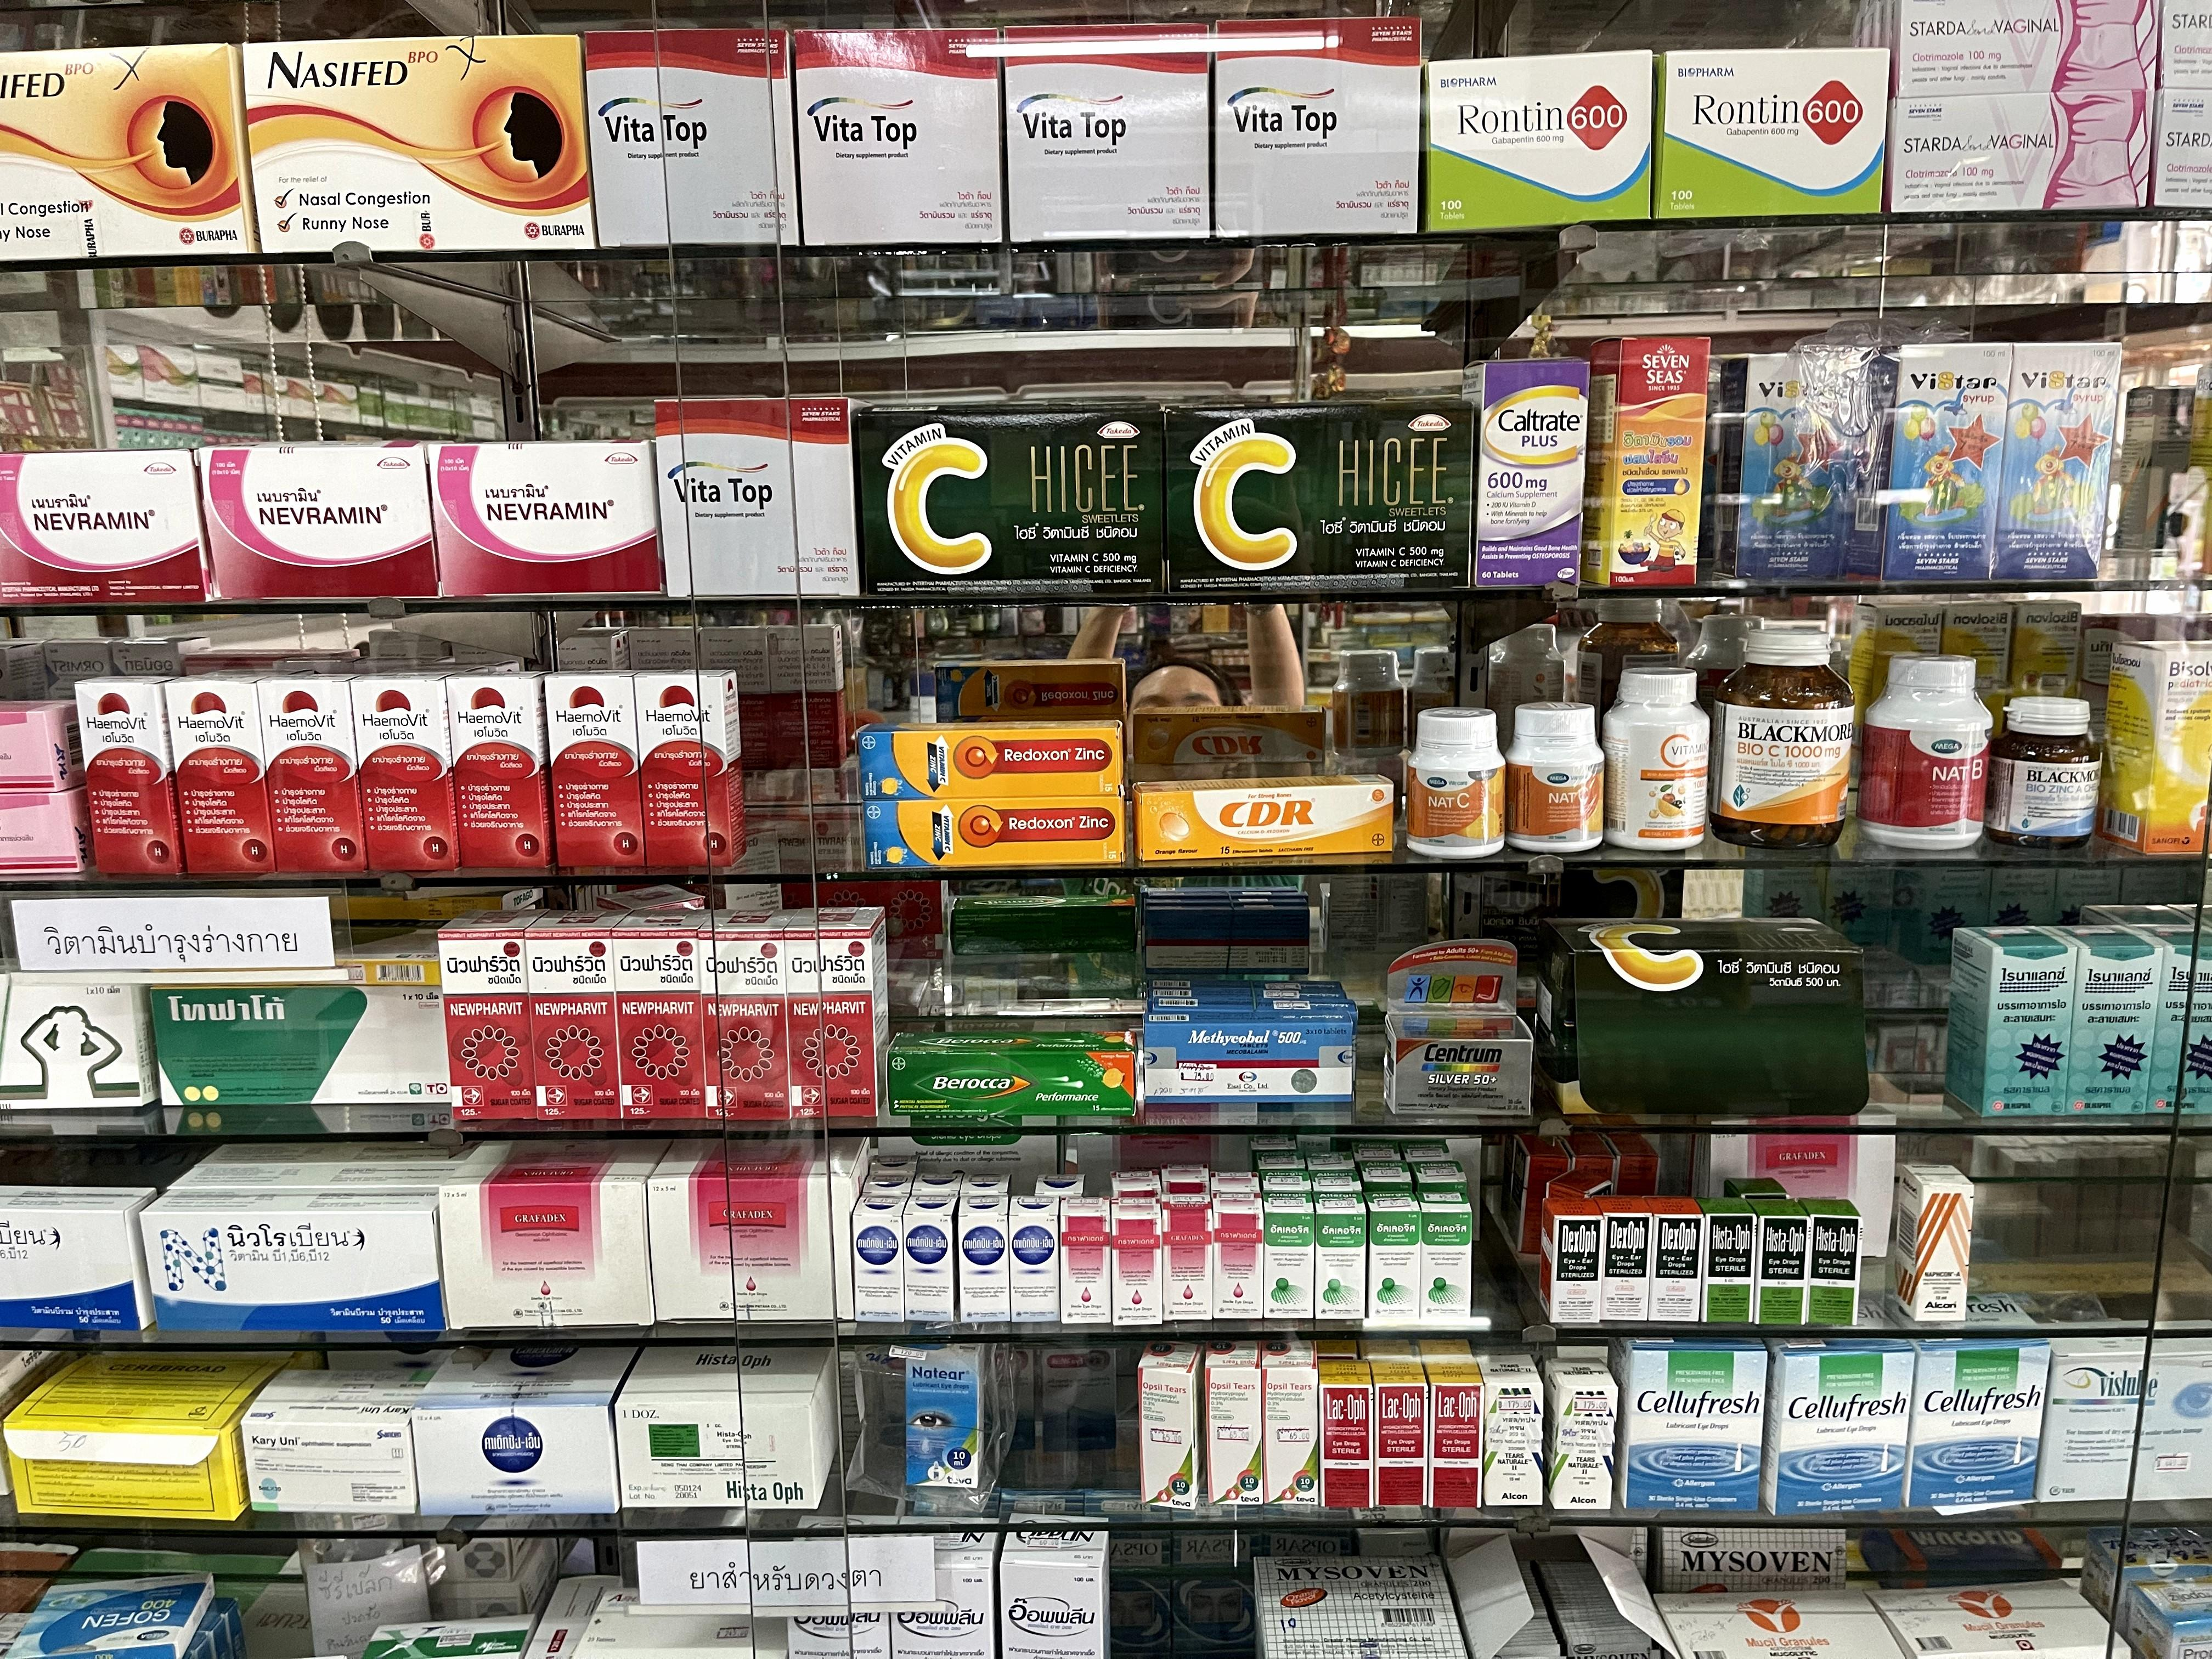Allergis: (1416, 1190, 1472, 1323), (1362, 1192, 1420, 1319), (1313, 1190, 1367, 1319), (1261, 1190, 1315, 1317), (1411, 1162, 1468, 1194), (1359, 1161, 1413, 1190), (1259, 1169, 1313, 1194), (1254, 1150, 1308, 1171), (1310, 1171, 1364, 1192), (1353, 1140, 1402, 1161), (1400, 1143, 1454, 1161), (1251, 1133, 1299, 1150), (1306, 1152, 1355, 1169)
Blackmores: (1709, 627, 1855, 852)
Grafadex: (1160, 1194, 1214, 1321), (1111, 1197, 1163, 1326), (1061, 1195, 1113, 1323), (1212, 1192, 1264, 1319), (1162, 1162, 1211, 1194), (1109, 1171, 1162, 1197), (1211, 1171, 1261, 1194)
Heamovit: (75, 676, 192, 875), (164, 674, 279, 873), (632, 667, 747, 866), (256, 673, 369, 870), (352, 671, 460, 871), (448, 671, 554, 868), (545, 671, 646, 866)
Lac-Oph_Red: (1371, 1359, 1426, 1506), (1426, 1359, 1480, 1506), (1322, 1361, 1374, 1511)
NatC: (1407, 706, 1507, 859), (1507, 701, 1606, 854)
Nevramin: (199, 439, 441, 598), (428, 439, 665, 594), (0, 450, 216, 605)
Newpharvit: (784, 910, 885, 1117), (442, 915, 540, 1119), (615, 908, 709, 1119), (700, 910, 792, 1121), (531, 913, 624, 1119)
Rhinalax: (1940, 924, 2078, 1117), (2040, 925, 2163, 1115), (2130, 924, 2212, 1114), (2083, 904, 2200, 925)
